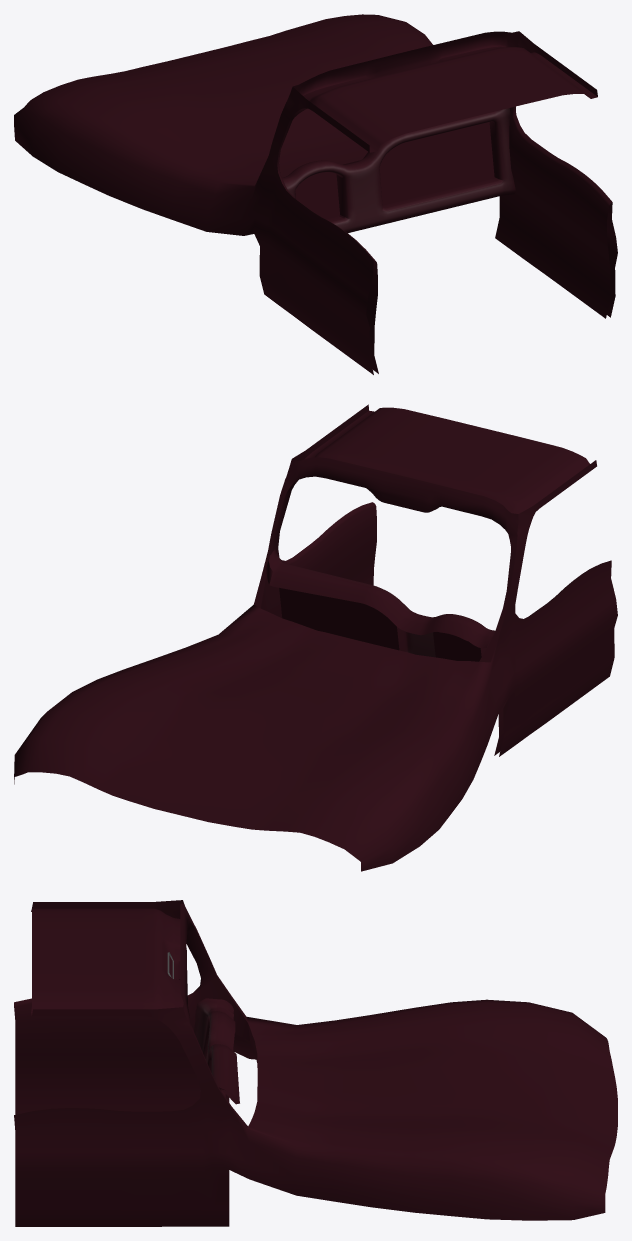
File: SM_Dash_CarV3.FBX
The picture shows the model from 3 angles, top to bottom: view 1: azimuth 30°, elevation 25°; view 2: azimuth 150°, elevation 25°; view 3: azimuth 270°, elevation 25°; orthographic projection. The views are drawn at different scales.
Visible parts, largest first — view 1: Carosserie, Dash Base; view 2: Carosserie, Dash Base; view 3: Carosserie, Dash Base.
Boxes of the visible parts, bbox=[...] form: Carosserie: bbox=[14, 14, 617, 374]; Dash Base: bbox=[282, 108, 515, 232]; Carosserie: bbox=[14, 404, 617, 871]; Dash Base: bbox=[266, 549, 495, 661]; Carosserie: bbox=[14, 900, 617, 1226]; Dash Base: bbox=[194, 998, 239, 1104].
Size of the model in its own units: 1765 by 1015 by 2462.
